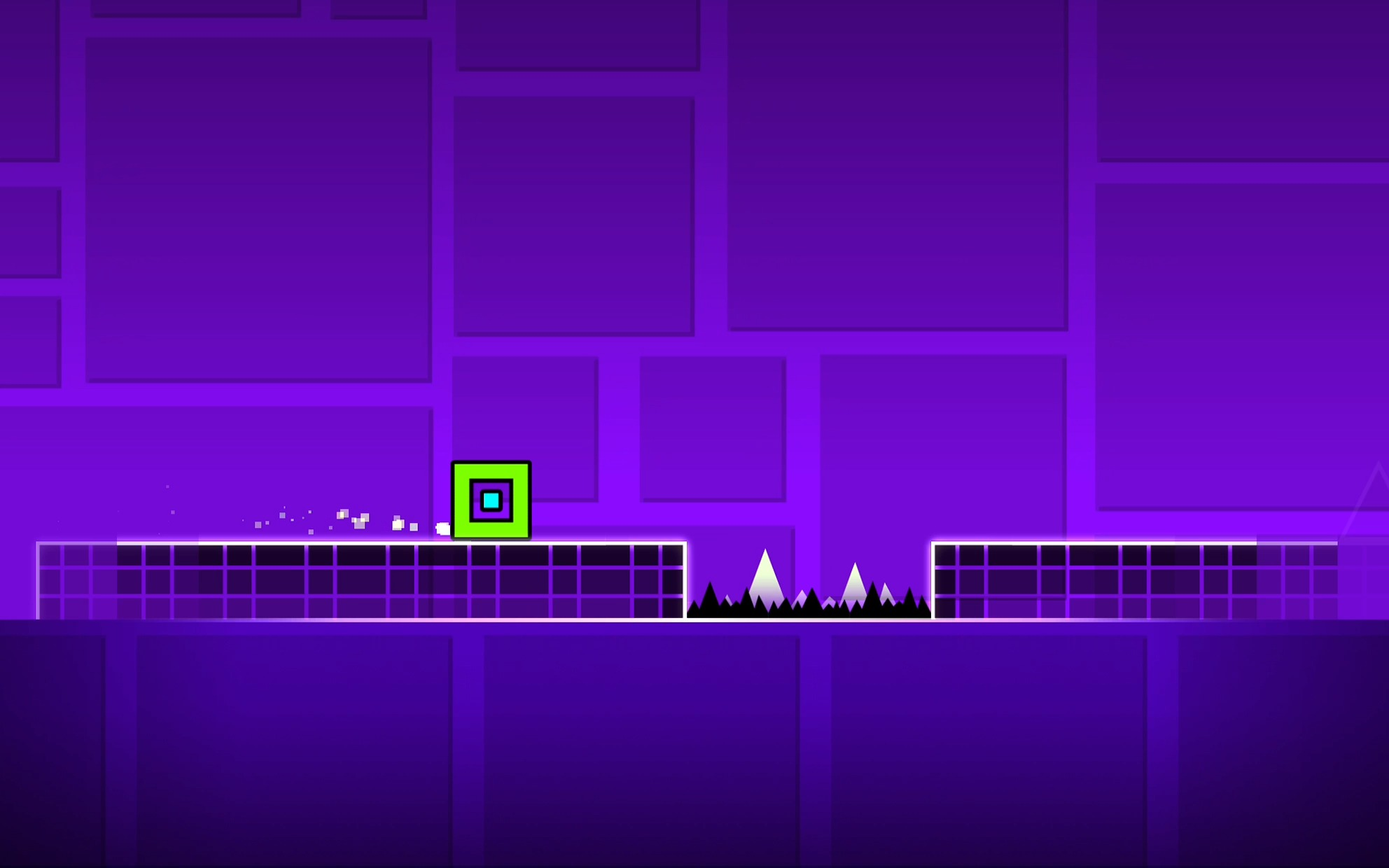Block2: (36, 540, 682, 614), (930, 542, 1361, 618)
Player: (449, 460, 530, 538)
Spike: (1349, 464, 1389, 531)
Spike3: (687, 583, 930, 621)
